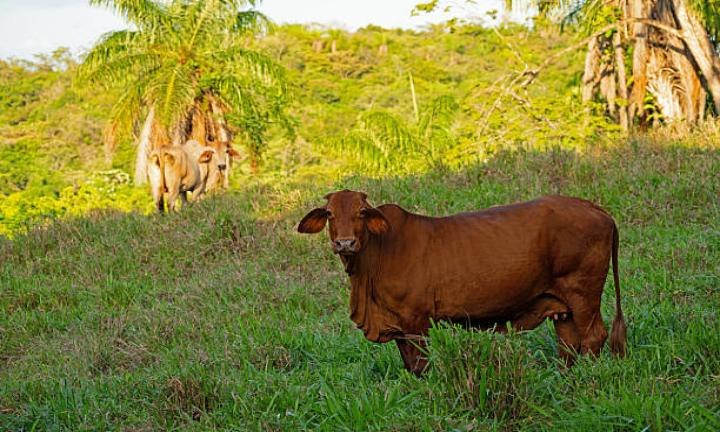Brahman: (298, 190, 625, 373), (148, 140, 239, 211)
